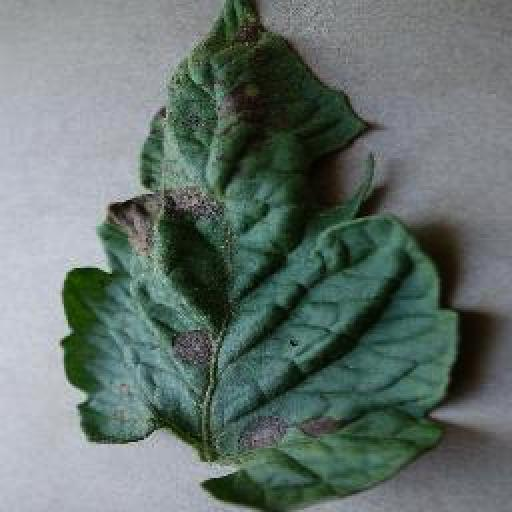disease_tomato: (62, 2, 466, 512)
